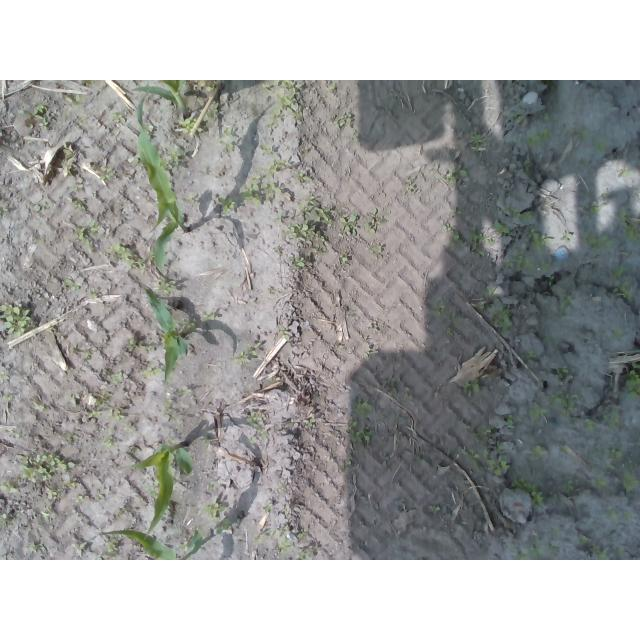Maize: (136, 94, 193, 275), (130, 441, 194, 540), (143, 286, 191, 385), (98, 530, 205, 560), (129, 80, 189, 116)
Weeds: (461, 422, 512, 476), (250, 525, 314, 560), (545, 364, 583, 420), (259, 80, 297, 129), (234, 174, 282, 211), (21, 453, 75, 484), (605, 449, 640, 495), (83, 389, 125, 424), (510, 474, 548, 509), (349, 398, 376, 446), (1, 301, 31, 339), (202, 501, 234, 536), (111, 242, 146, 271), (576, 533, 613, 560), (297, 194, 332, 222), (285, 221, 327, 244), (613, 263, 635, 304), (232, 341, 264, 369), (62, 277, 99, 300), (619, 205, 640, 244), (507, 255, 549, 273), (74, 223, 102, 250), (487, 305, 512, 334), (525, 229, 551, 256), (42, 486, 63, 519), (438, 163, 468, 186), (527, 402, 550, 429), (217, 125, 239, 153), (602, 402, 623, 431), (470, 234, 495, 258), (586, 233, 619, 251), (625, 361, 640, 399), (62, 143, 77, 179), (265, 159, 292, 178), (514, 544, 542, 560), (338, 213, 358, 235), (508, 207, 537, 222), (558, 292, 574, 317), (32, 102, 48, 126), (336, 110, 357, 128), (463, 379, 482, 398), (222, 196, 240, 216), (527, 128, 549, 144), (194, 80, 219, 94), (71, 541, 90, 559), (166, 145, 184, 164), (287, 254, 308, 270), (530, 445, 549, 462), (492, 220, 510, 237), (298, 170, 315, 187), (0, 480, 18, 496), (63, 93, 85, 106), (362, 219, 378, 236), (99, 168, 114, 185), (431, 302, 446, 318), (164, 399, 174, 423), (586, 200, 603, 214), (561, 480, 576, 495), (593, 477, 608, 492), (468, 133, 484, 146), (145, 367, 163, 378), (27, 543, 45, 554), (583, 418, 597, 432), (112, 113, 125, 128), (162, 282, 177, 295), (70, 492, 86, 504), (198, 310, 214, 322), (450, 231, 464, 244), (104, 544, 117, 557), (594, 140, 608, 152), (113, 372, 127, 384), (303, 417, 316, 429), (607, 508, 619, 521), (558, 444, 571, 456), (561, 230, 574, 242), (244, 412, 256, 425), (258, 145, 272, 156), (152, 479, 160, 498), (72, 199, 85, 210), (0, 369, 10, 383), (442, 222, 453, 234), (615, 545, 625, 558), (429, 503, 442, 513), (128, 338, 136, 354), (486, 285, 497, 296), (104, 438, 114, 450), (185, 117, 195, 129), (621, 167, 631, 178), (329, 84, 339, 94), (340, 255, 349, 266), (247, 437, 258, 446), (445, 328, 455, 337), (144, 345, 153, 354), (346, 458, 355, 467), (527, 350, 537, 358), (507, 415, 514, 425)
